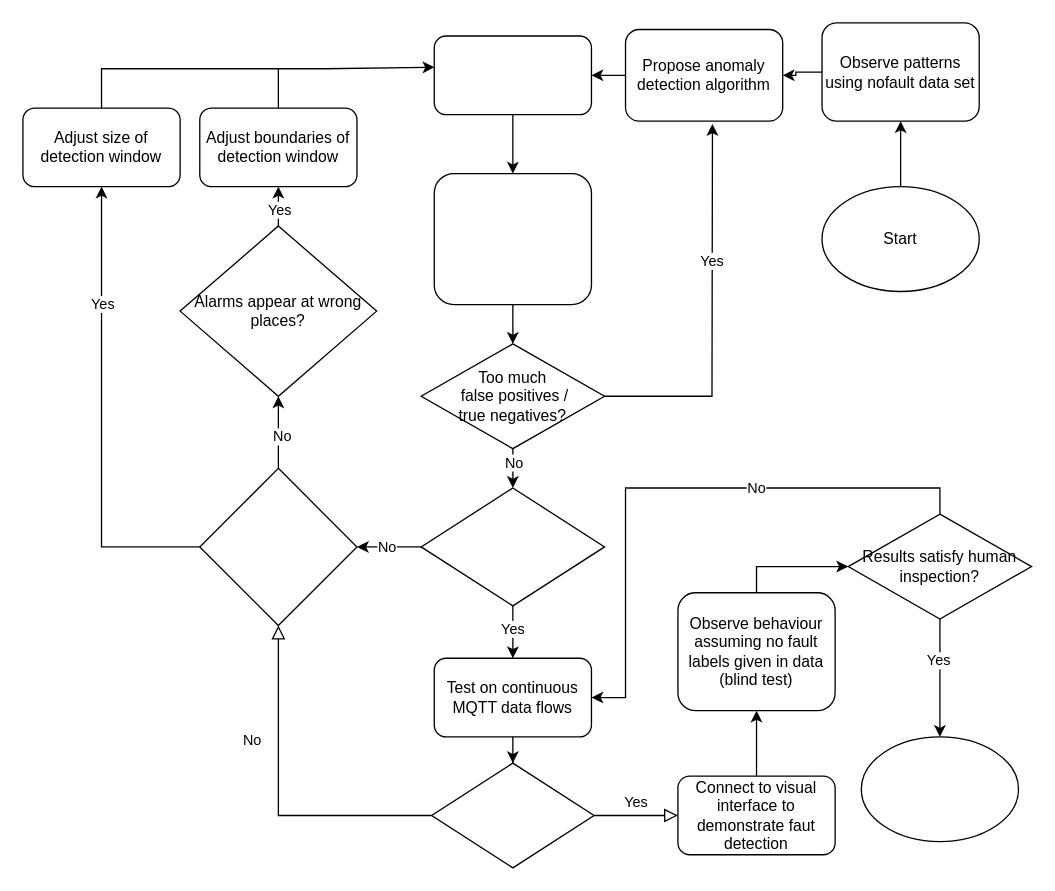
Some shapes in this 1055 by 891 pixel diagram are drawn without their labels. Each missing label, with the centre of its shape:
Alarms align with fault labels?: pixel 512 815
Alarms are consistent with fault labels?: pixel 512 546
Alarms stays too long/short?: pixel 277 546
End: pixel 939 789
Propose thresholds: pixel 512 75
Test on pre-recorded data sets (nofault, therm-voltage-bias,etc.: pixel 512 238
